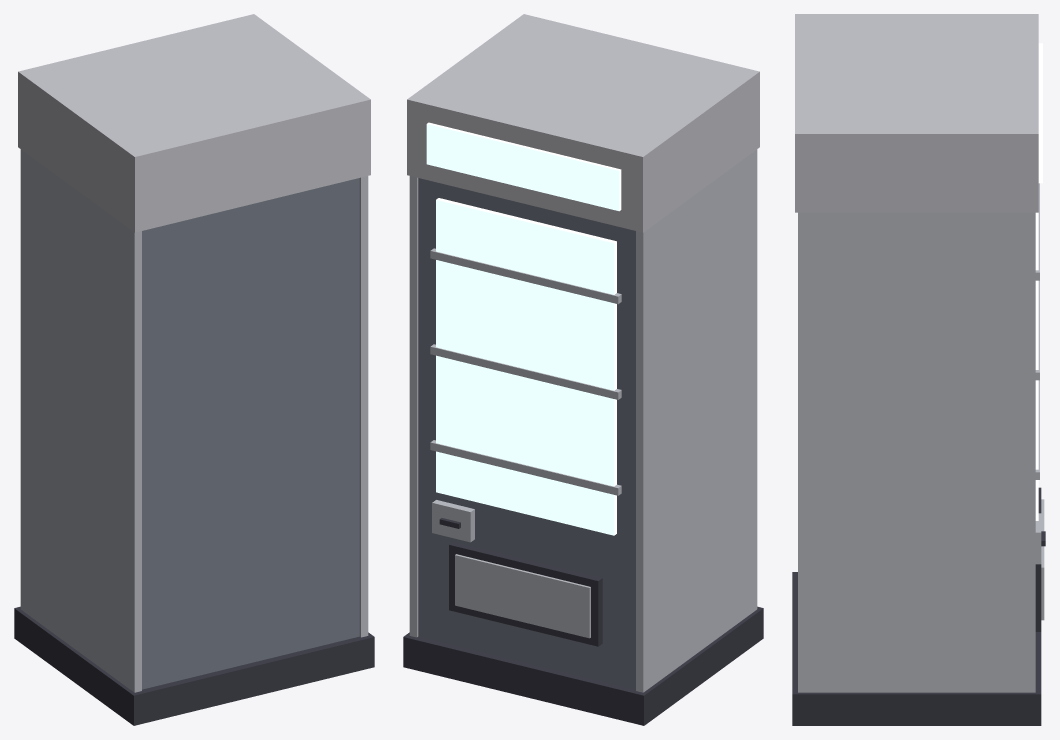
Rendered from vending_machine.glb.
3 views of the same model, side by side, from view 1: azimuth 30°, elevation 25°; view 2: azimuth 150°, elevation 25°; view 3: azimuth 270°, elevation 25° (orthographic). The views are drawn at different scales.
Parts seen in each view (by area): view 1: VendingMachine; view 2: VendingMachine; view 3: VendingMachine.
Part boxes in pixels (x1,y1,x2,y2): VendingMachine: (14, 14, 374, 725); VendingMachine: (403, 14, 763, 725); VendingMachine: (792, 14, 1045, 725).
Size of the model in its own units: 1 by 2.25 by 0.875.
